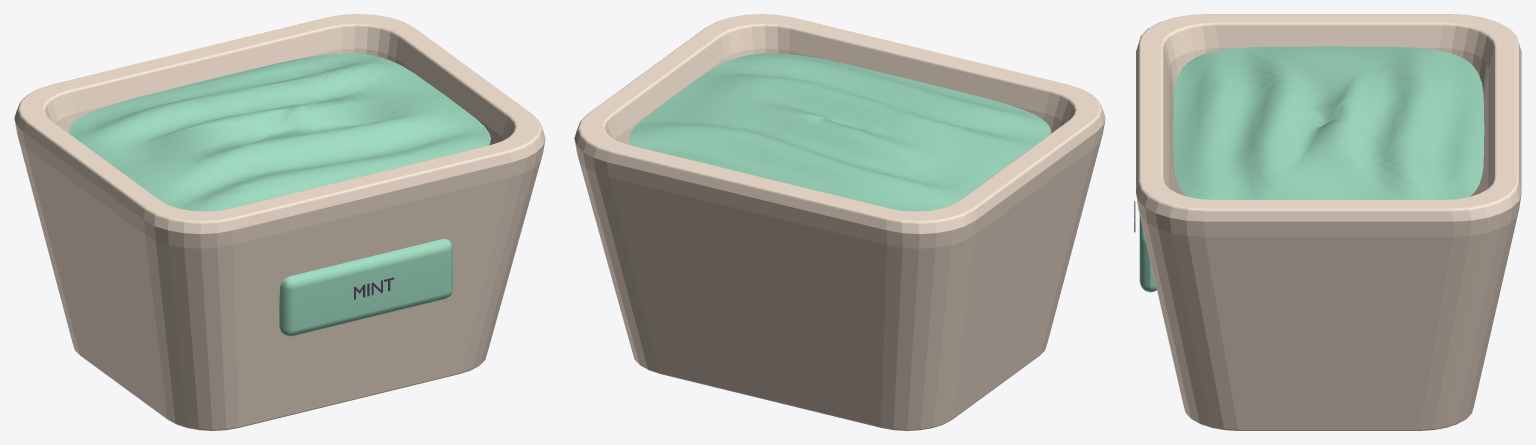
Rendered from Mint_tub.fbx.
3 renders of one model, left to right at view 1: azimuth 30°, elevation 25°; view 2: azimuth 150°, elevation 25°; view 3: azimuth 270°, elevation 25°, orthographic. The views are drawn at different scales.
Visible parts, largest first — view 1: Toon_Mint_tub Rounded reusable tub.001, Toon_Mint_tub Ice cream fill.001, Toon_Mint_tub Flavor badge.001; view 2: Toon_Mint_tub Rounded reusable tub.001, Toon_Mint_tub Ice cream fill.001; view 3: Toon_Mint_tub Rounded reusable tub.001, Toon_Mint_tub Ice cream fill.001, Toon_Mint_tub Flavor badge.001.
Boxes of the visible parts, x1,y1,x2,y2 form: Toon_Mint_tub Rounded reusable tub.001: [14, 14, 545, 430]; Toon_Mint_tub Ice cream fill.001: [69, 53, 490, 211]; Toon_Mint_tub Flavor badge.001: [279, 239, 452, 336]; Toon_Mint_tub Rounded reusable tub.001: [574, 14, 1105, 430]; Toon_Mint_tub Ice cream fill.001: [629, 53, 1050, 211]; Toon_Mint_tub Rounded reusable tub.001: [1136, 14, 1521, 430]; Toon_Mint_tub Ice cream fill.001: [1173, 46, 1484, 199]; Toon_Mint_tub Flavor badge.001: [1139, 215, 1156, 292].
Size of the model in its own units: 39 by 22.17 by 32.14.
